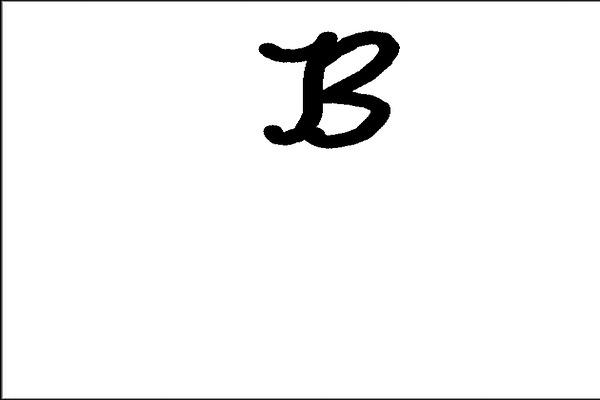B: (249, 24, 405, 154)
